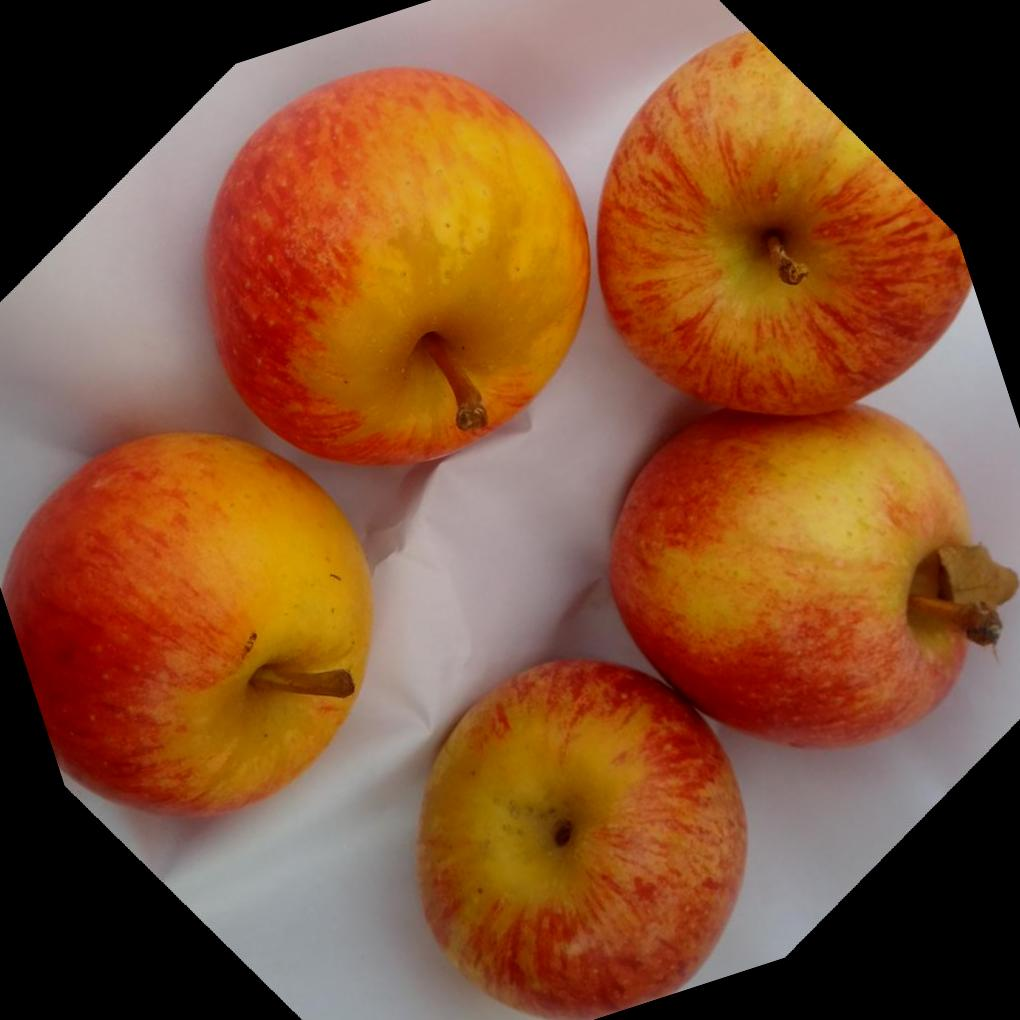FreshGuava: (199, 30, 1018, 1020), (2, 432, 370, 816)
